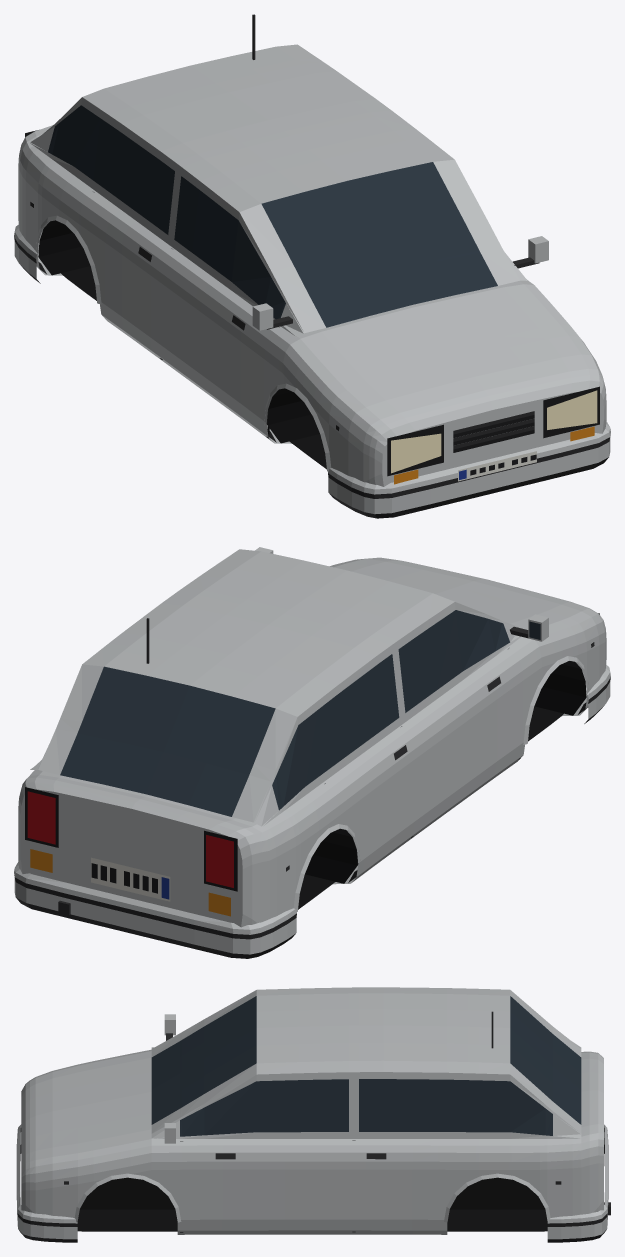
The model's file is opel-astra.glb.
3 renders of one model, top to bottom at view 1: azimuth 30°, elevation 25°; view 2: azimuth 150°, elevation 25°; view 3: azimuth 270°, elevation 25°, orthographic. The views are drawn at different scales.
Parts seen in each view (by area): view 1: LOD0, door_FR, door_RR; view 2: LOD0, door_FR, door_RR; view 3: LOD0, door_FL, door_RL.
Boxes of the visible parts, bbox=[...] form: LOD0: bbox=[14, 14, 610, 518]; door_FR: bbox=[159, 167, 285, 434]; door_RR: bbox=[79, 110, 175, 355]; LOD0: bbox=[14, 547, 610, 958]; door_FR: bbox=[397, 602, 523, 833]; door_RR: bbox=[317, 645, 414, 876]; LOD0: bbox=[16, 987, 610, 1242]; door_FL: bbox=[181, 1072, 352, 1230]; door_RL: bbox=[355, 1072, 478, 1230].
Size of what is drawn, in the model's own units: 1.9 by 1.58 by 4.21.
